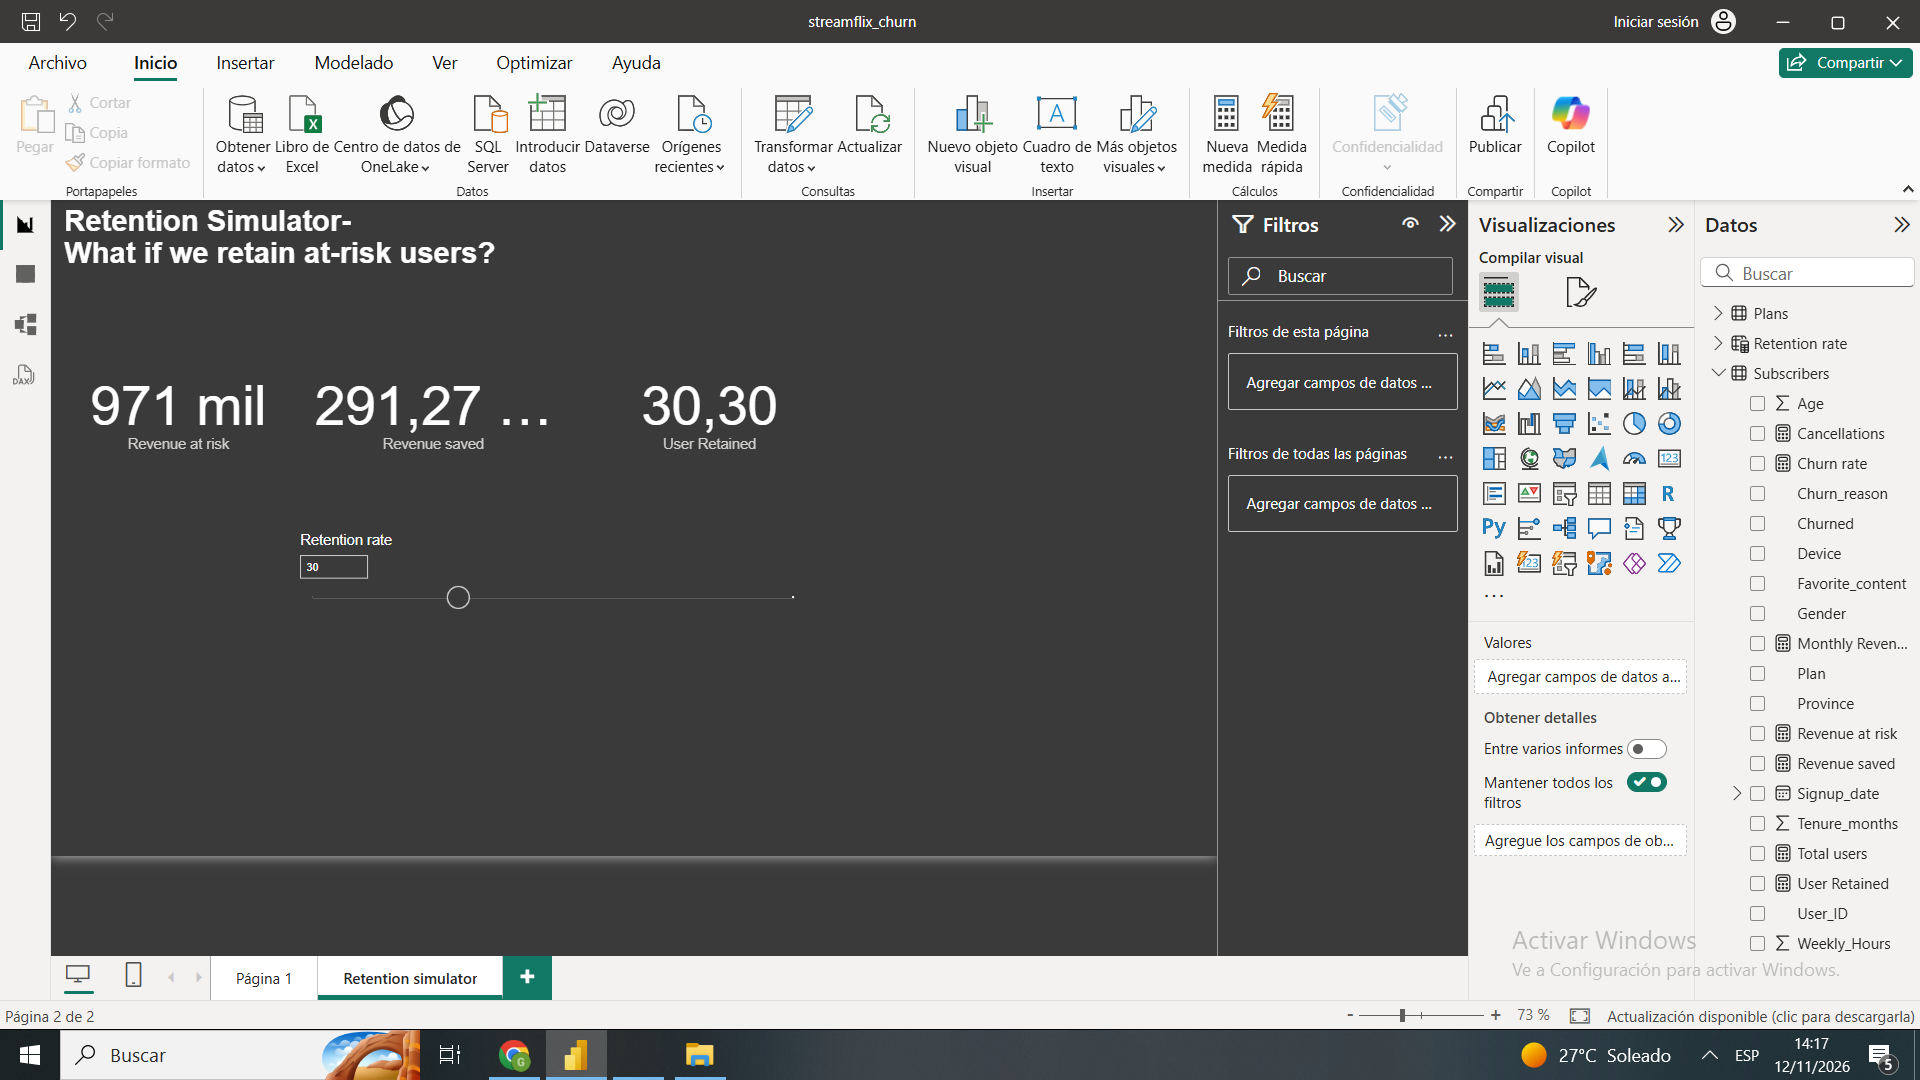

Layout of this report page (visuals, bound fields, positions):
{"tool":"powerbi","page":{"name":"Retention simulator","canvas":[1280,720],"ordinal":1},"visuals":[{"type":"card","fields":{"Values":["Subscribers.Revenue at risk"]},"box":[0,90.6,279.9,279.9],"z":0},{"type":"slicer","fields":{"Values":["Retention rate.Retention rate"]},"box":[260.7,359.5,576.3,219.6],"z":1000},{"type":"card","fields":{"Values":["Subscribers.Revenue saved"]},"box":[279.9,155.1,279.9,150.9],"z":2000},{"type":"card","fields":{"Values":["Subscribers.User Retained"]},"box":[583.2,155.1,279.9,150.9],"z":2001},{"type":"textbox","box":[9.6,0,1051.1,90.6],"z":2002}]}

Visuals, with their boxes on the page's 1280x720 design canvas (x1, y1, x2, y2). These are canvas units, not pixel positions in the 1920x1080 screenshot, which may show the page scaled, cropped or inside an application window:
card - Subscribers.Revenue at risk: 0:91:280:370
slicer - Retention rate.Retention rate: 261:360:837:579
card - Subscribers.Revenue saved: 280:155:560:306
card - Subscribers.User Retained: 583:155:863:306
textbox: 10:0:1061:91
